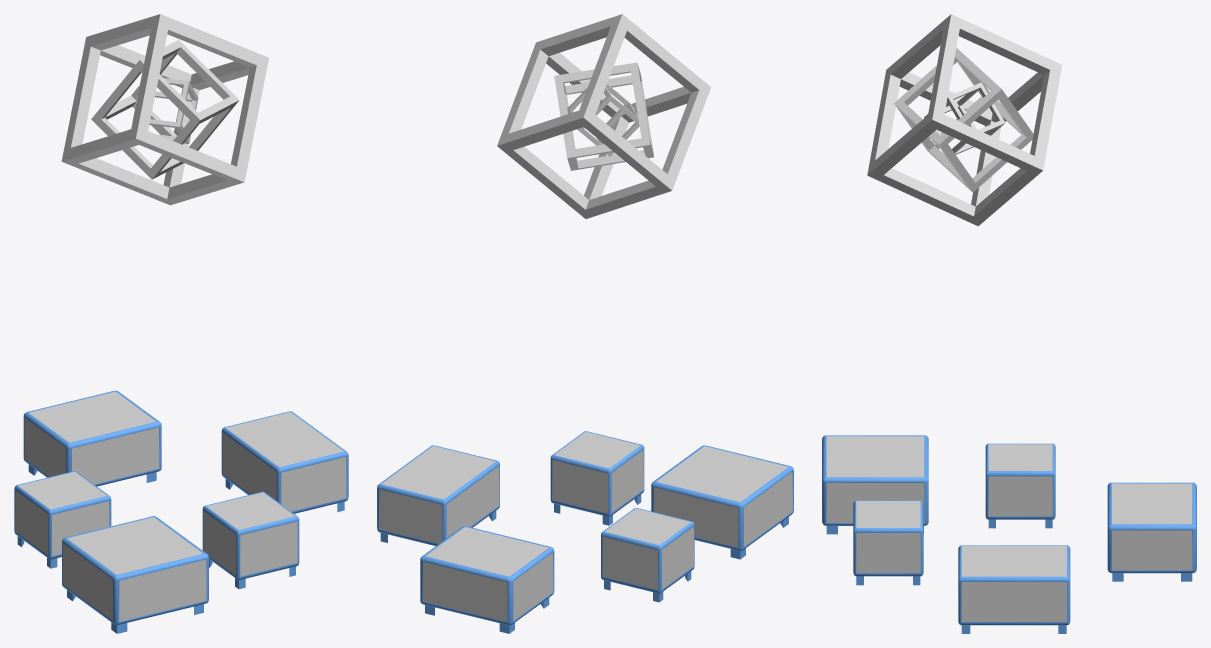
File: redditroomchairs.dae
3 renders of one model, left to right at view 1: azimuth 30°, elevation 25°; view 2: azimuth 150°, elevation 25°; view 3: azimuth 270°, elevation 25°, orthographic. The views are drawn at different scales.
Visible parts, largest first — view 1: chairs; view 2: chairs; view 3: chairs.
Boxes of the visible parts, x1,y1,x2,y2 form: chairs: (14, 14, 348, 633); chairs: (377, 14, 793, 633); chairs: (822, 14, 1196, 633).
Bounding box in the file's own units: 3.23 × 3.54 × 5.53.
